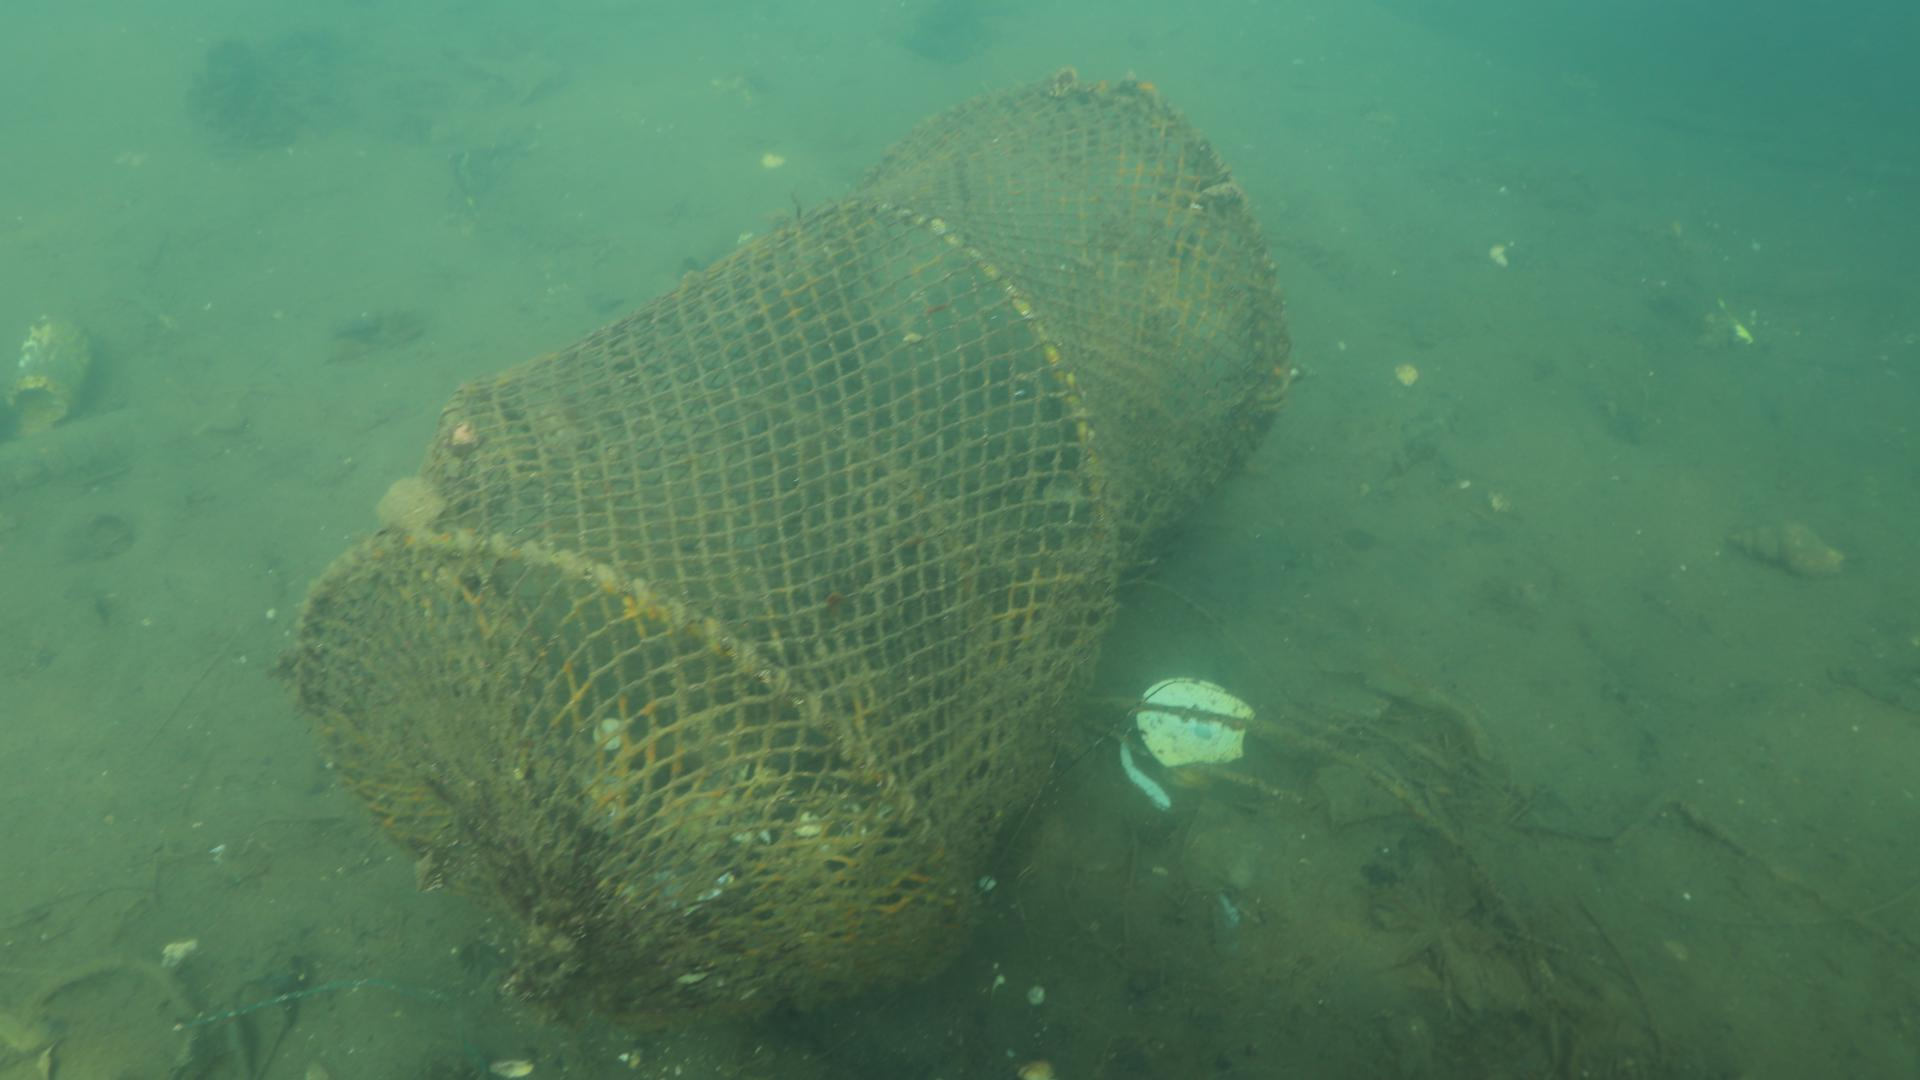spring fish trap: (276, 65, 1288, 1036)
